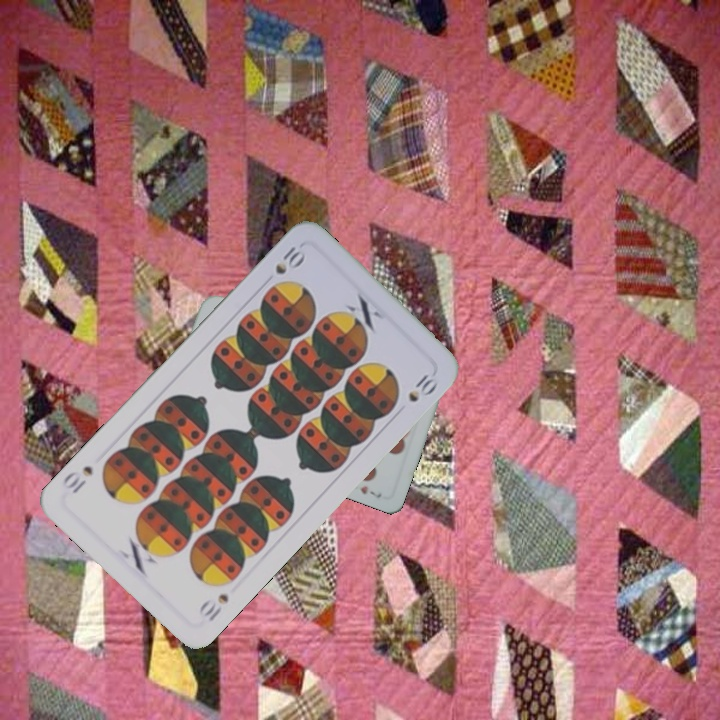S10: (194, 589, 232, 625), (271, 242, 308, 277)
